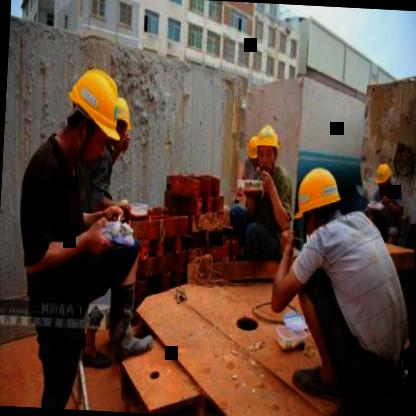helmet: (59, 56, 129, 170), (290, 156, 348, 249), (255, 119, 281, 176), (110, 99, 132, 157), (372, 154, 399, 197), (243, 134, 262, 176)
